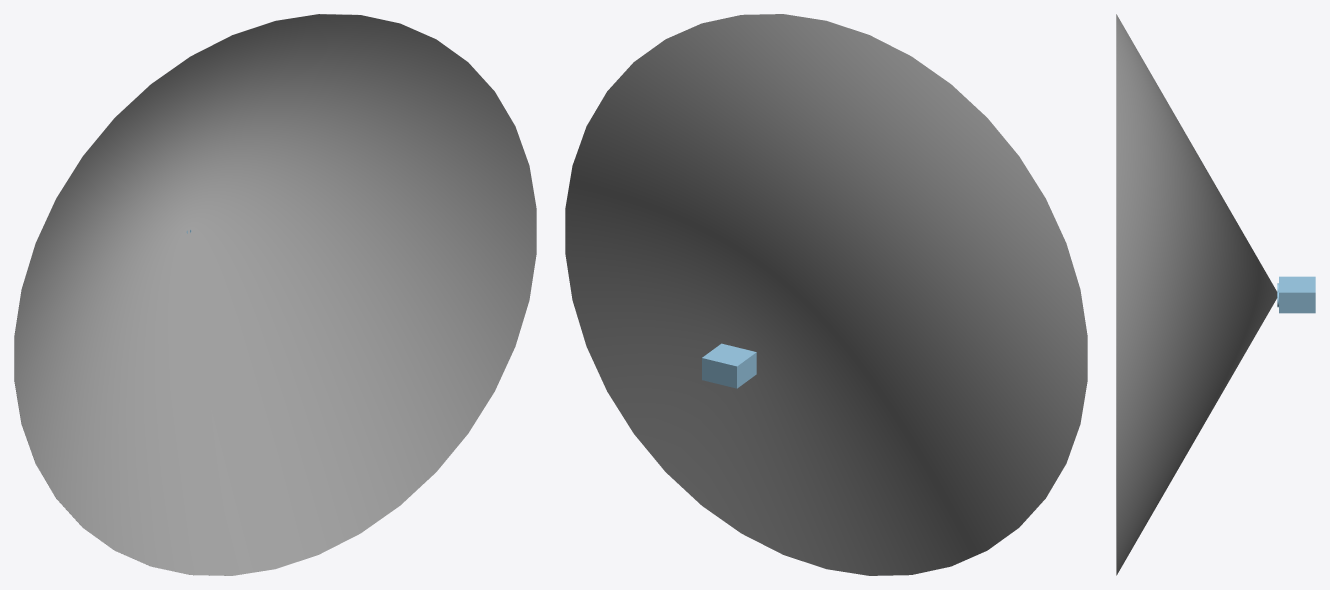
File: Subwoofer.dae
3 renders of one model, left to right at view 1: azimuth 30°, elevation 25°; view 2: azimuth 150°, elevation 25°; view 3: azimuth 270°, elevation 25°, orthographic. The views are drawn at different scales.
Visible parts, largest first — view 1: 681bb9cd7999ff26d0883ffe; view 2: 681bb9cd7999ff26d0883ffe (×2); view 3: 681bb9cd7999ff26d0883ffe (×2).
Boxes of the visible parts, x1,y1,x2,y2 form: 681bb9cd7999ff26d0883ffe: (14, 14, 536, 575); 681bb9cd7999ff26d0883ffe (×2): (565, 14, 1087, 575); 681bb9cd7999ff26d0883ffe (×2): (1116, 14, 1315, 575).
Size of the model in its own units: 8.77 by 3.11 by 8.8.
